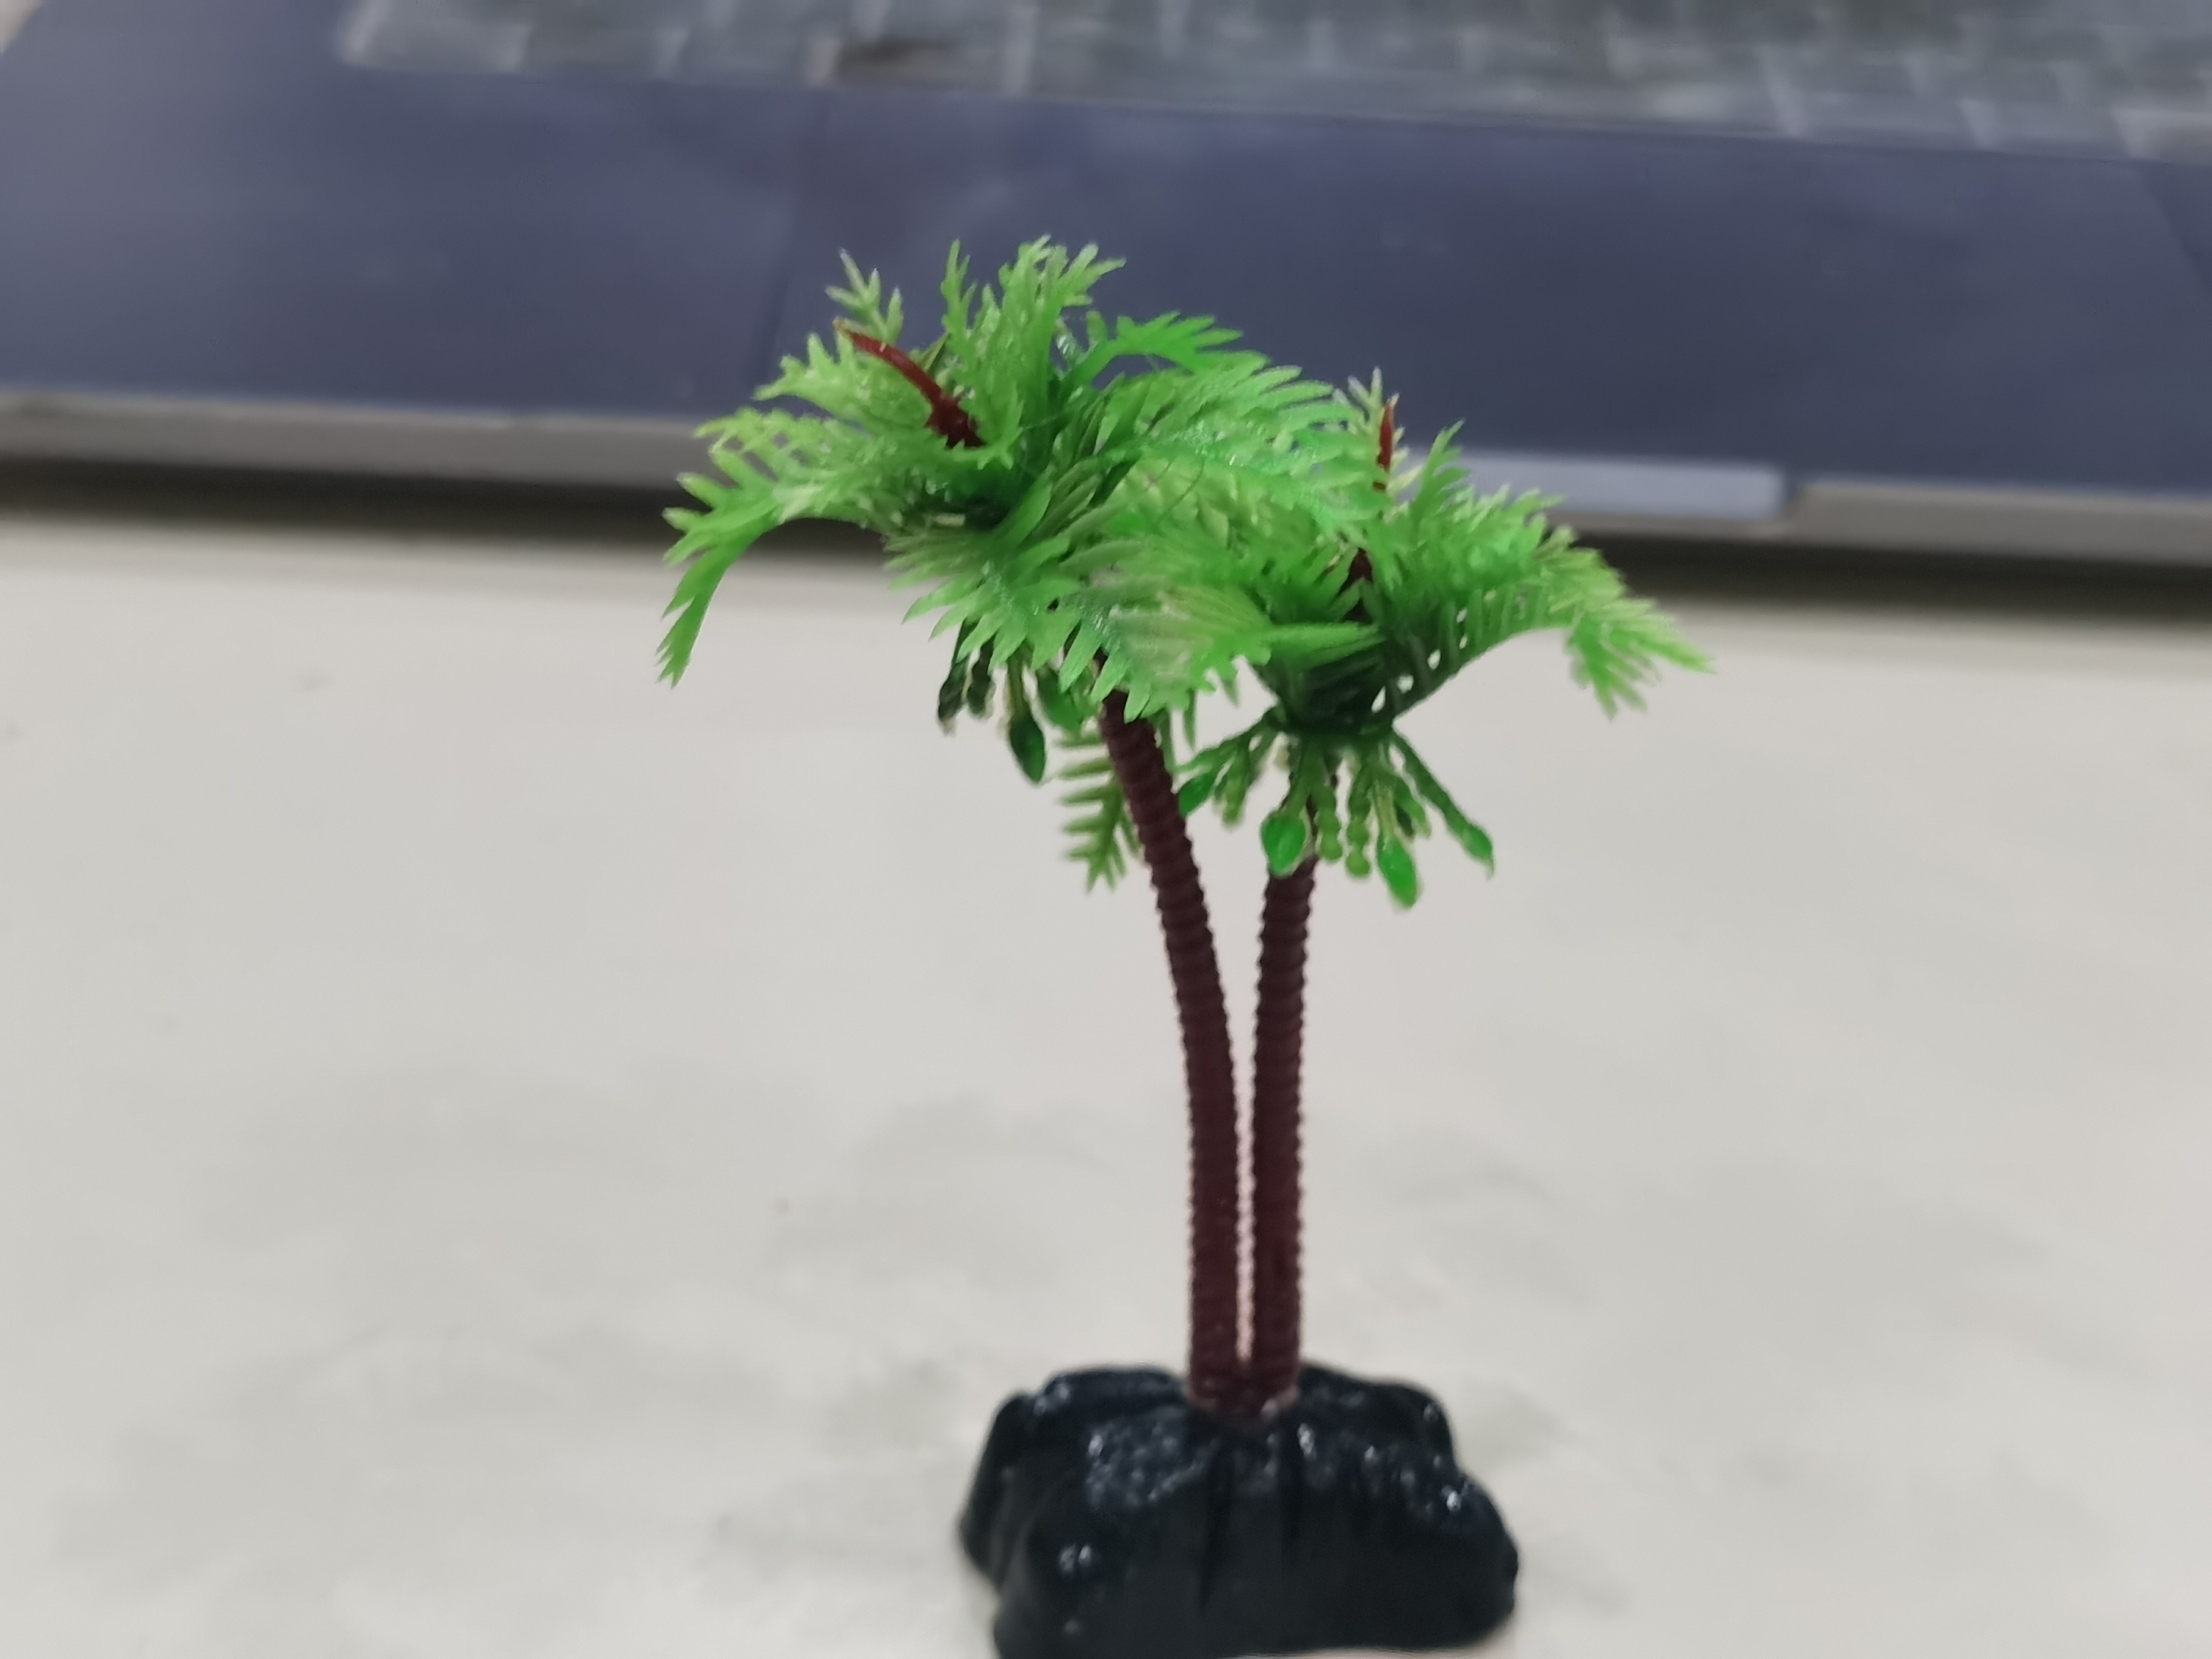corn: (644, 234, 1707, 1659)
